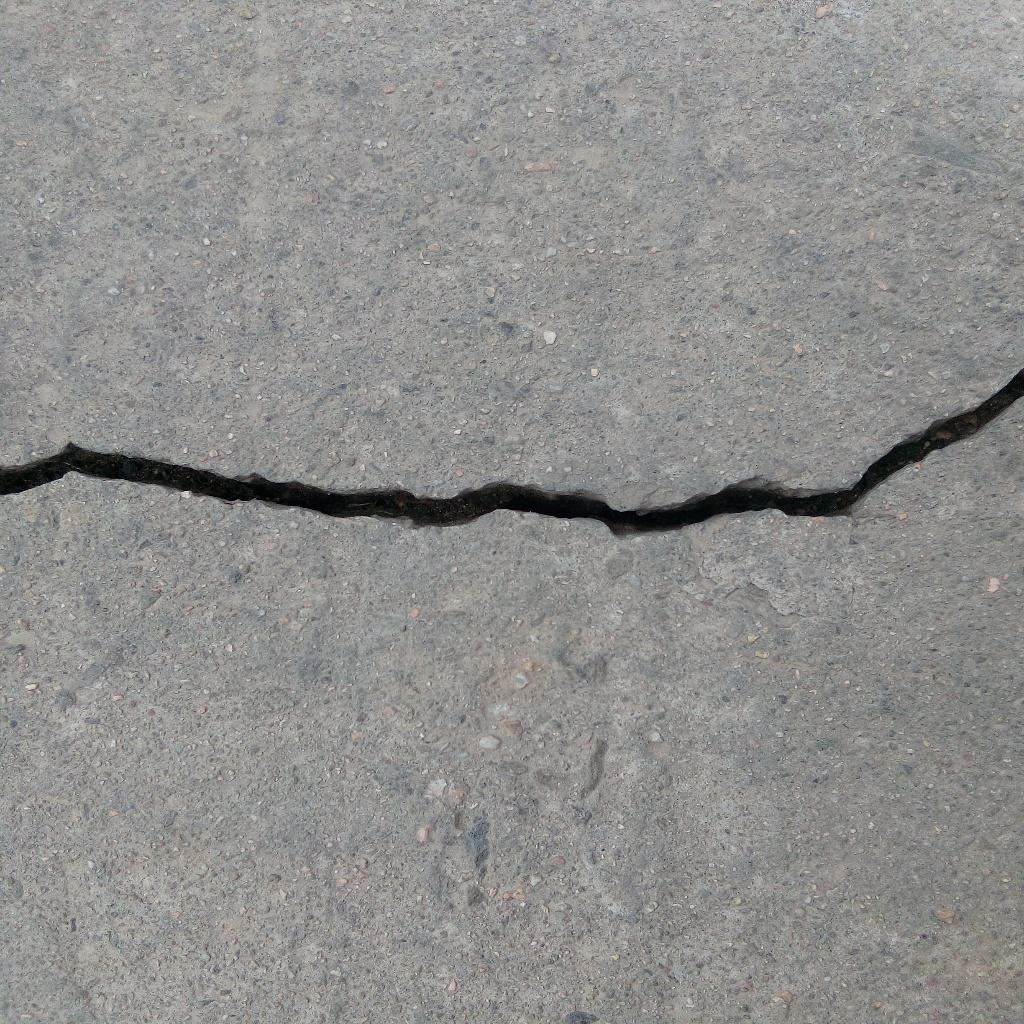Crack: (1, 368, 1024, 541)
